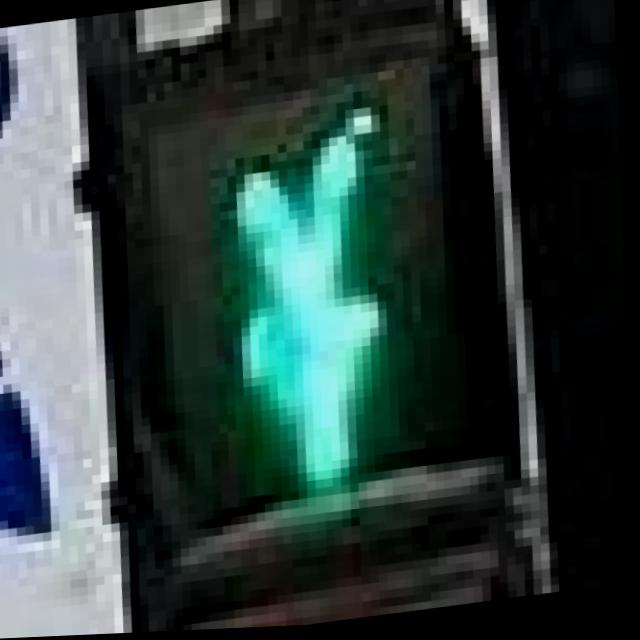green_light: (114, 85, 527, 555)
